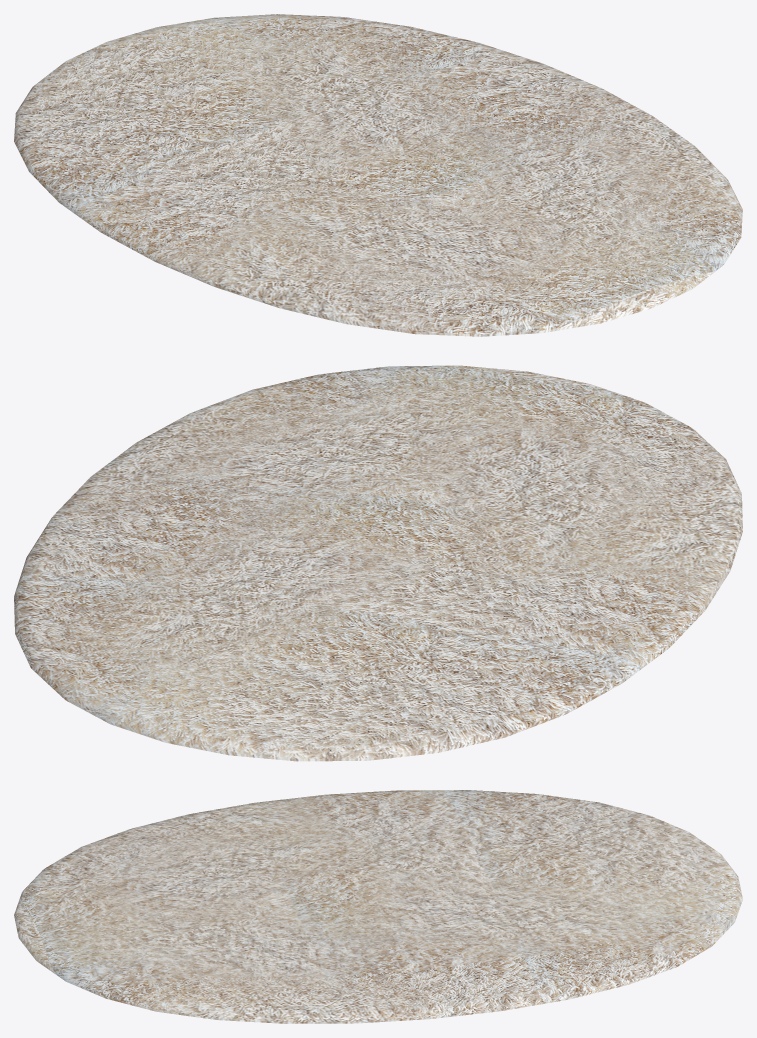
The model's file is carpet.fbx.
The picture shows the model from 3 angles, top to bottom: view 1: azimuth 30°, elevation 25°; view 2: azimuth 150°, elevation 25°; view 3: azimuth 270°, elevation 25°; orthographic projection. The views are drawn at different scales.
Parts seen in each view (by area): view 1: carpet_03_matB, carpet_02_matB; view 2: carpet_03_matB; view 3: carpet_03_matB, carpet_02_matB, carpet_04_matB.
Boxes of the visible parts, box(x1,y1,x2,y2) form: carpet_03_matB: box(14, 14, 742, 335); carpet_02_matB: box(166, 266, 720, 336); carpet_03_matB: box(14, 365, 742, 759); carpet_03_matB: box(14, 790, 742, 1022); carpet_02_matB: box(41, 946, 711, 1023); carpet_04_matB: box(66, 945, 712, 1023).
Size of the model in its own units: 221 by 7.32 by 295.
